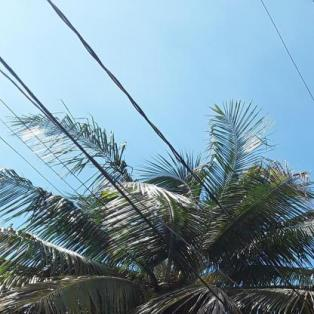Poste: (262, 311, 314, 314)
